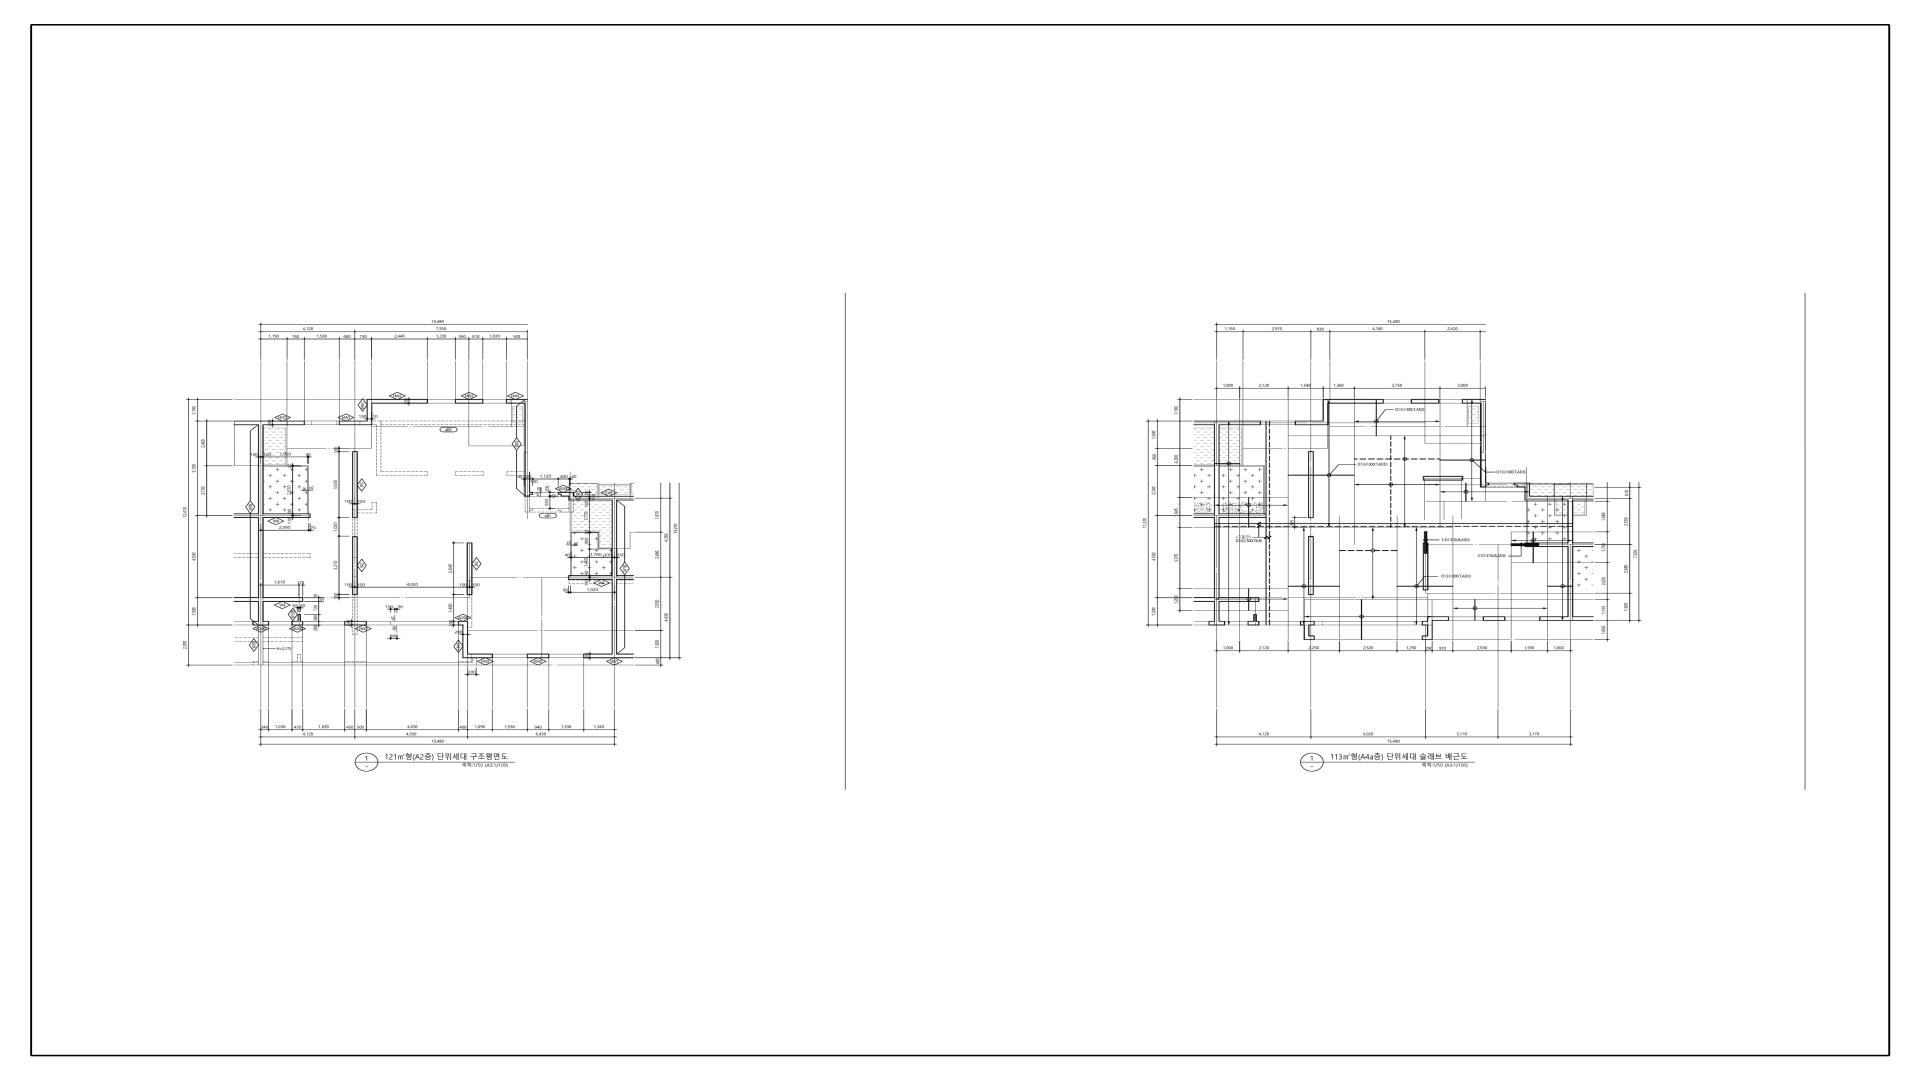wall: (1270, 524, 1573, 526), (264, 662, 476, 665), (1480, 404, 1486, 487), (258, 425, 264, 513), (1215, 425, 1220, 513), (258, 518, 264, 597), (1266, 421, 1270, 524), (1266, 526, 1270, 625), (612, 501, 617, 575), (612, 580, 617, 654), (1215, 526, 1220, 597), (1568, 547, 1573, 617), (352, 451, 357, 518), (1308, 451, 1313, 518), (352, 537, 357, 595), (1308, 537, 1313, 595), (467, 543, 472, 595), (264, 513, 311, 518), (1220, 513, 1266, 518), (568, 496, 612, 501), (568, 575, 612, 580), (372, 400, 427, 404), (1328, 400, 1383, 404), (1423, 476, 1464, 481), (264, 597, 303, 603), (258, 625, 264, 665), (1220, 597, 1259, 603), (1423, 554, 1428, 591), (525, 404, 527, 472), (264, 421, 305, 425), (1220, 421, 1261, 425), (463, 625, 468, 654), (1539, 616, 1568, 621), (1539, 542, 1568, 547), (1530, 496, 1568, 500), (1215, 524, 1270, 526), (233, 513, 258, 518), (233, 597, 258, 603), (339, 421, 372, 425), (1295, 421, 1328, 425), (525, 472, 530, 496), (1568, 500, 1573, 524), (463, 654, 493, 658), (1427, 616, 1449, 621), (455, 400, 484, 404), (583, 654, 612, 658), (1411, 400, 1440, 404), (367, 400, 372, 421), (1323, 400, 1328, 421), (1573, 496, 1594, 501), (1573, 616, 1594, 621), (1573, 542, 1594, 547), (1193, 513, 1215, 518), (1215, 601, 1220, 621), (233, 421, 258, 425), (233, 662, 258, 666), (258, 603, 264, 621), (1427, 621, 1432, 640), (1462, 400, 1486, 404), (1482, 617, 1506, 621), (617, 496, 634, 501), (617, 575, 634, 580), (1524, 483, 1530, 500), (344, 621, 367, 625), (527, 654, 550, 658), (506, 400, 527, 404), (1193, 421, 1215, 425), (1568, 526, 1573, 542), (1193, 597, 1215, 601), (1304, 625, 1309, 640), (617, 654, 634, 658), (253, 621, 269, 625), (558, 492, 574, 496), (1423, 542, 1428, 554), (1209, 621, 1225, 625), (1524, 543, 1539, 547), (1300, 621, 1315, 625), (291, 621, 303, 625), (1247, 621, 1259, 625), (458, 621, 468, 625), (1514, 483, 1524, 487), (1511, 543, 1524, 546), (1424, 531, 1427, 543), (258, 513, 264, 518), (258, 597, 264, 603), (612, 496, 617, 501), (612, 575, 617, 580), (1568, 616, 1573, 621), (1568, 542, 1573, 547), (1215, 518, 1220, 524), (1215, 513, 1220, 518), (1215, 597, 1220, 603), (1253, 615, 1257, 621), (258, 421, 264, 425), (612, 654, 617, 658), (1215, 421, 1220, 425), (1568, 496, 1573, 500), (1422, 621, 1427, 625), (1422, 636, 1427, 640), (1309, 636, 1315, 640), (298, 615, 301, 621), (473, 658, 476, 662), (530, 492, 533, 495), (1486, 483, 1489, 485)
